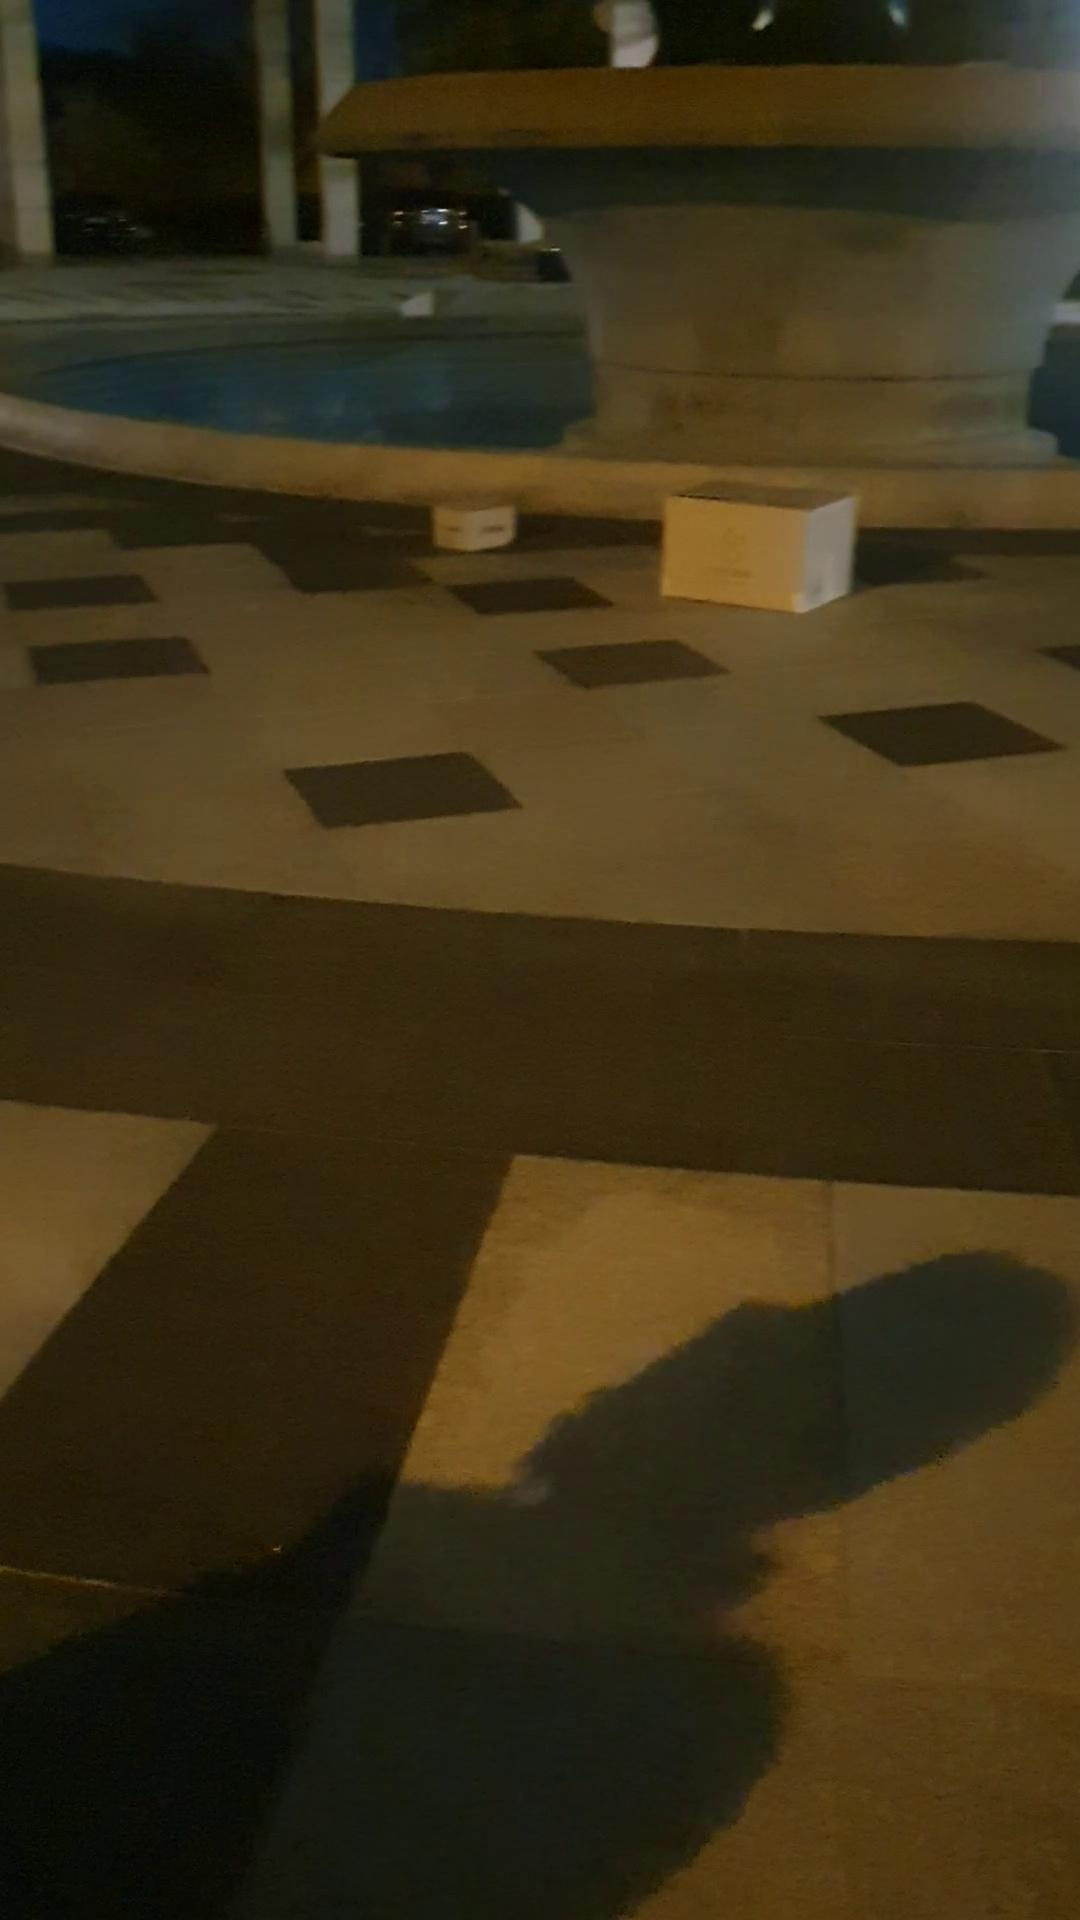Box: (661, 483, 876, 622), (423, 483, 527, 564)
